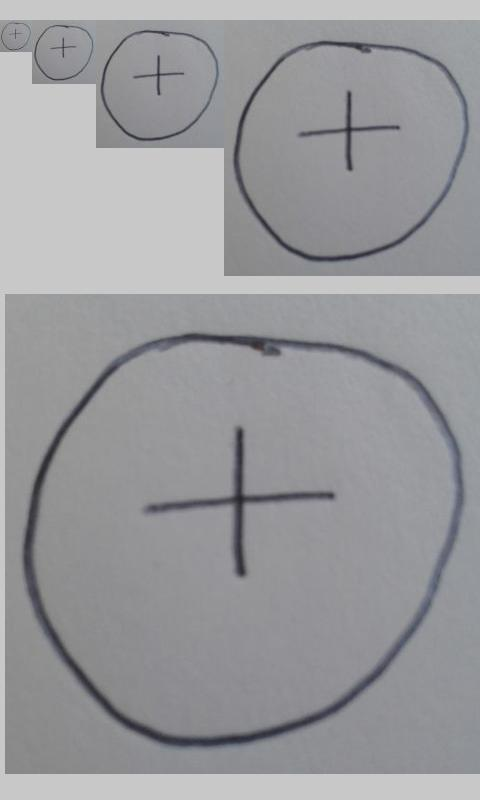button: (22, 333, 466, 752), (234, 41, 469, 263), (100, 29, 219, 142), (34, 24, 94, 81), (1, 22, 31, 51)
